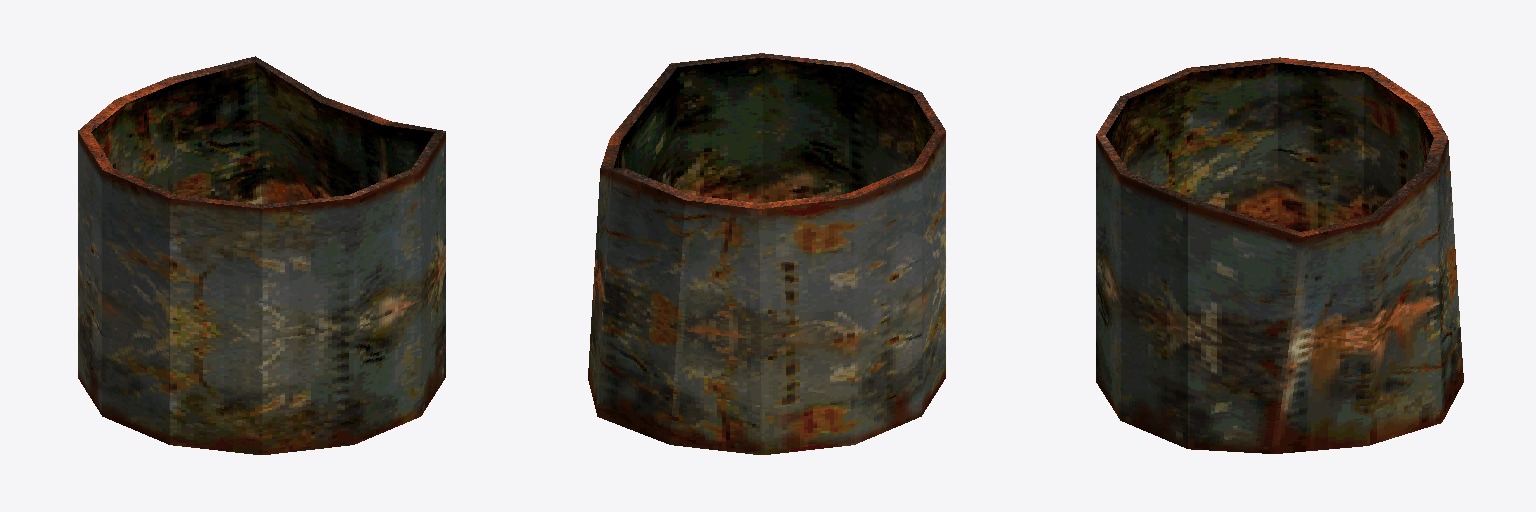
3 renders of one model, left to right at view 1: azimuth 30°, elevation 25°; view 2: azimuth 150°, elevation 25°; view 3: azimuth 270°, elevation 25°, orthographic.
Parts seen in each view (by area): view 1: Swatertower00-00.Swatertower00-00_Swatertower00-00; view 2: Swatertower00-00.Swatertower00-00_Swatertower00-00; view 3: Swatertower00-00.Swatertower00-00_Swatertower00-00.
Boxes of the visible parts, x1,y1,x2,y2 form: Swatertower00-00.Swatertower00-00_Swatertower00-00: [78, 56, 445, 454]; Swatertower00-00.Swatertower00-00_Swatertower00-00: [588, 53, 945, 454]; Swatertower00-00.Swatertower00-00_Swatertower00-00: [1096, 57, 1463, 453].
Bounding box in the file's own units: 1.93 × 1.48 × 2.
Materials: 4 (4 with a texture image).